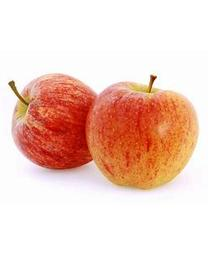apple: (84, 74, 199, 189), (11, 73, 98, 170)
